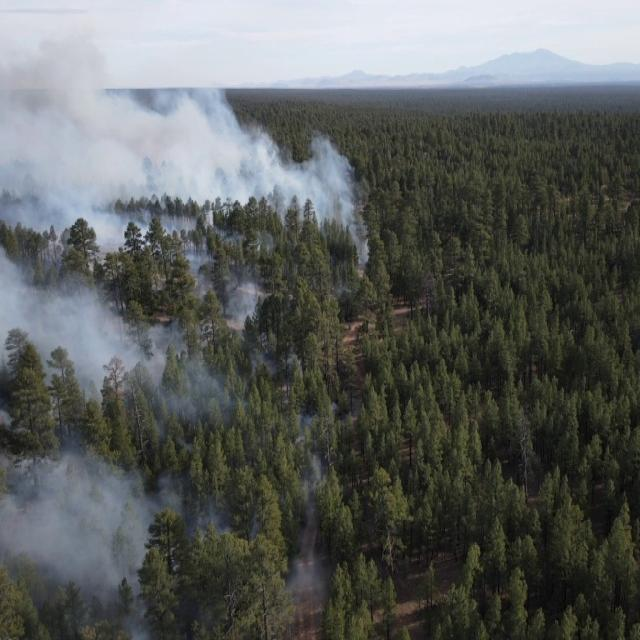smoke: (0, 32, 365, 250), (0, 412, 235, 640), (0, 249, 260, 412), (261, 352, 348, 620)
